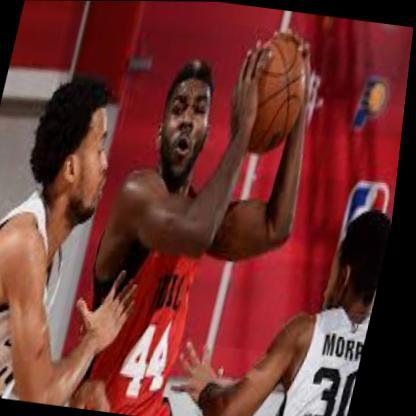basketball: (225, 25, 321, 157)
